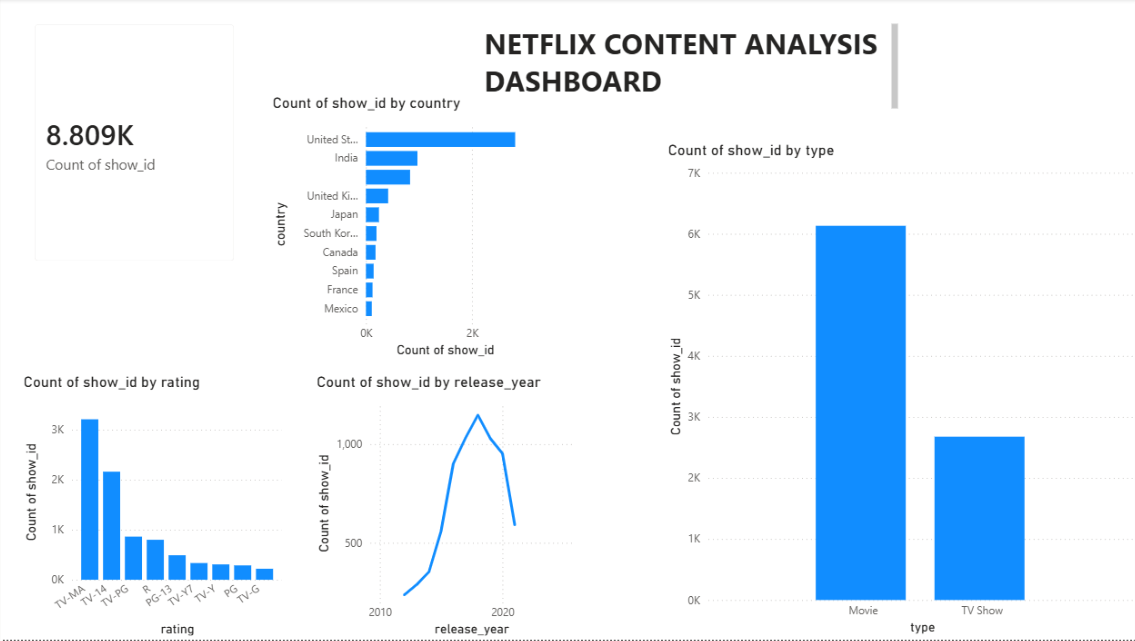

The page's visual inventory and layout, read from the dashboard file:
{"tool":"powerbi","page":{"name":"Page 1","canvas":[1280,720],"ordinal":0},"visuals":[{"type":"clusteredColumnChart","fields":{"Y":["CountNonNull(cleaned_dataset.show_id)"],"Category":["cleaned_dataset.type"]},"box":[744.7,160,535.1,557.7],"z":10000},{"type":"clusteredBarChart","fields":{"Y":["CountNonNull(cleaned_dataset.show_id)"],"Category":["cleaned_dataset.country"]},"box":[300.8,107,299.7,299.7],"z":11000},{"type":"clusteredColumnChart","fields":{"Category":["cleaned_dataset.rating"],"Y":["CountNonNull(cleaned_dataset.show_id)"]},"box":[21.4,420.2,299.7,299.7],"z":12000},{"type":"lineChart","fields":{"Category":["cleaned_dataset.release_year"],"Y":["CountNonNull(cleaned_dataset.show_id)"]},"box":[350.4,420.2,299.7,299.7],"z":12001},{"type":"textbox","box":[538.5,22.5,474.3,109.3],"z":12002},{"type":"cardVisual","fields":{"Data":["CountNonNull(cleaned_dataset.show_id)"]},"box":[21,11,258,300],"z":12003}]}

Visuals, with their boxes in screenshot pixels (x1, y1, x2, y2), scaled from the page's 1280x720 canvas onto the 1135x641 screenshot:
clusteredColumnChart - CountNonNull(cleaned_dataset.show_id) x cleaned_dataset.type: Rect(660, 142, 1134, 639)
clusteredBarChart - CountNonNull(cleaned_dataset.show_id) x cleaned_dataset.country: Rect(267, 95, 532, 362)
clusteredColumnChart - cleaned_dataset.rating x CountNonNull(cleaned_dataset.show_id): Rect(19, 374, 285, 640)
lineChart - cleaned_dataset.release_year x CountNonNull(cleaned_dataset.show_id): Rect(311, 374, 576, 640)
textbox: Rect(477, 20, 898, 117)
cardVisual - CountNonNull(cleaned_dataset.show_id): Rect(19, 10, 247, 277)
